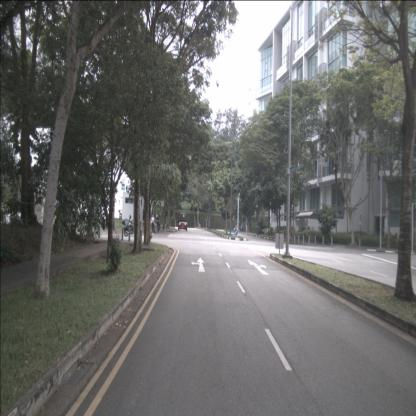human-pedestrian-adult: (151, 214, 156, 234), (156, 215, 160, 233)
vehicle-car: (178, 219, 187, 231)
vehicle-motorcycle: (122, 215, 137, 236)
